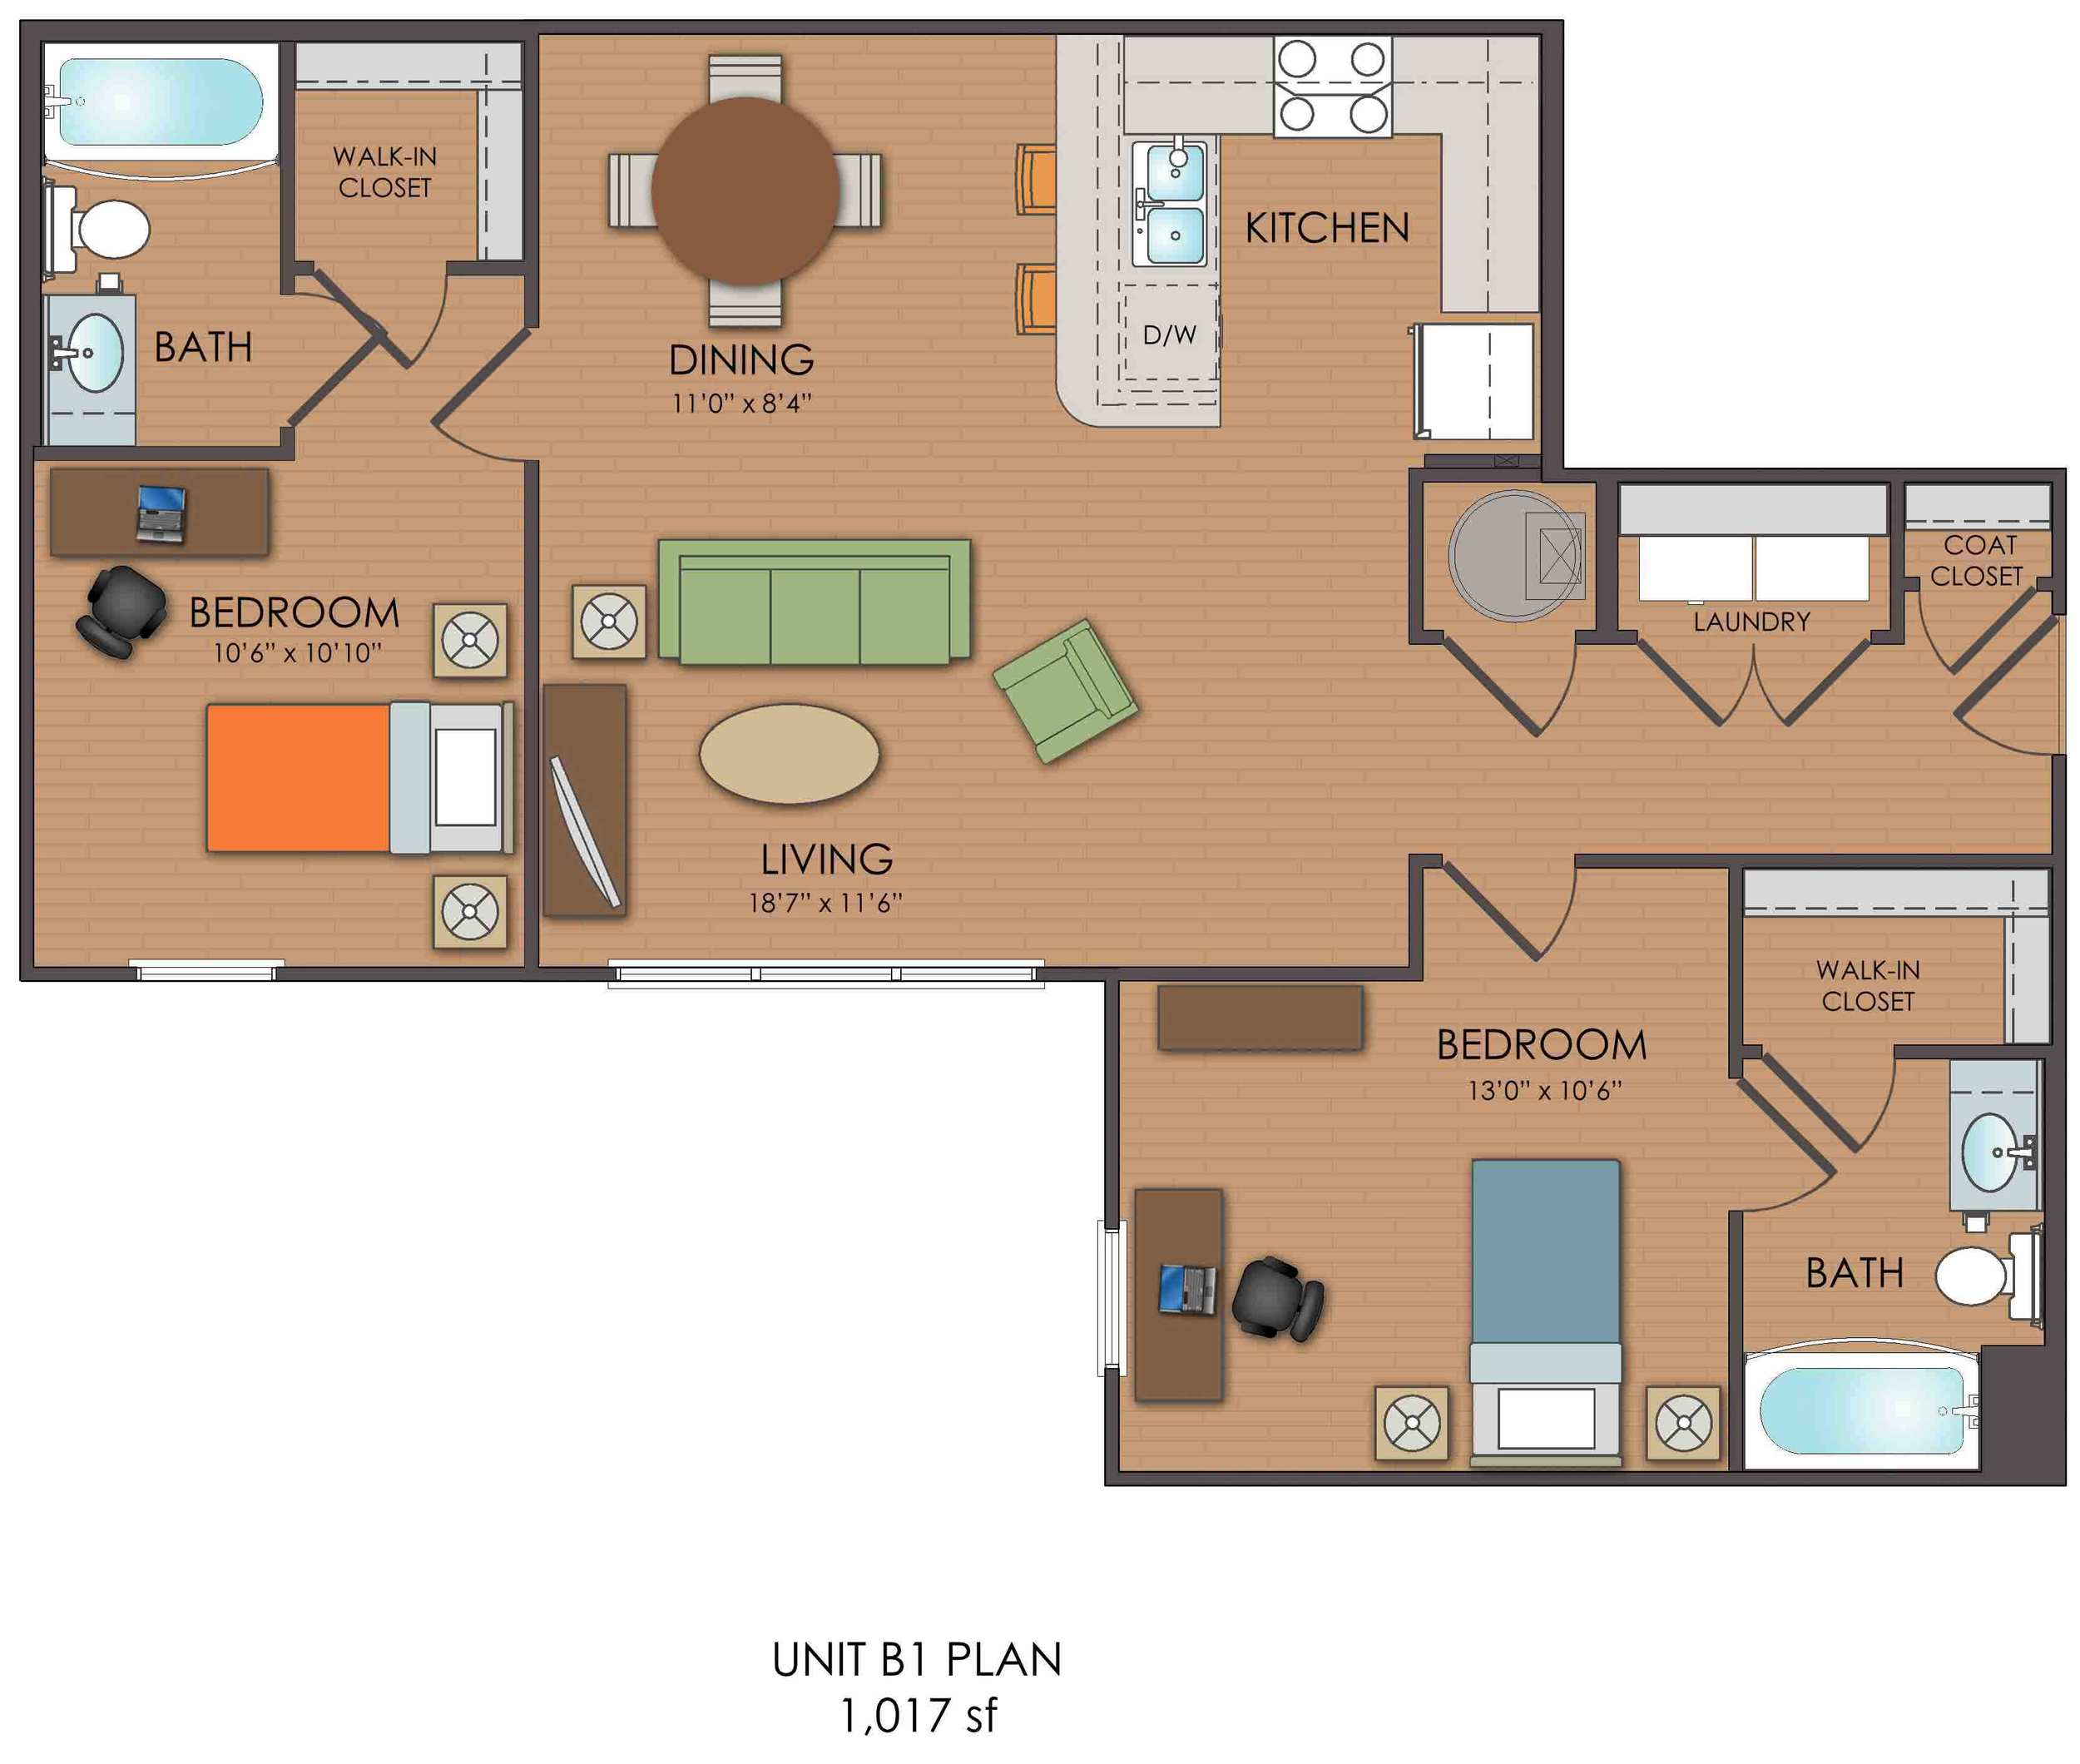door: (1650, 632, 1856, 751), (1440, 879, 1597, 994), (1429, 648, 1585, 763), (1945, 632, 2057, 779), (317, 275, 458, 378), (1741, 1102, 1839, 1239), (1784, 1053, 1900, 1165), (429, 343, 518, 487), (294, 291, 383, 434), (1916, 591, 2017, 677)
